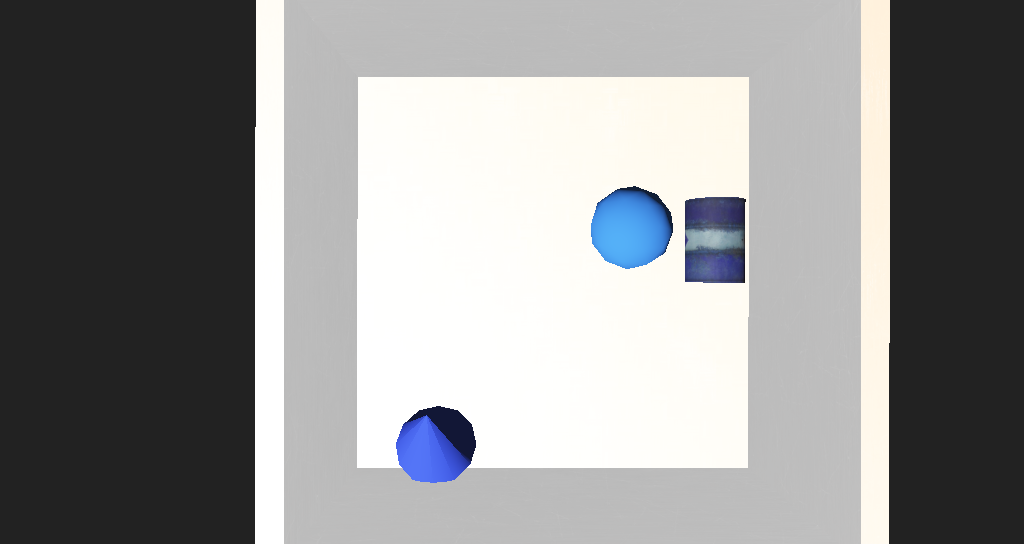cone: (600, 231, 653, 274)
cylinder: (374, 322, 448, 394)
sphere: (536, 220, 596, 267)
